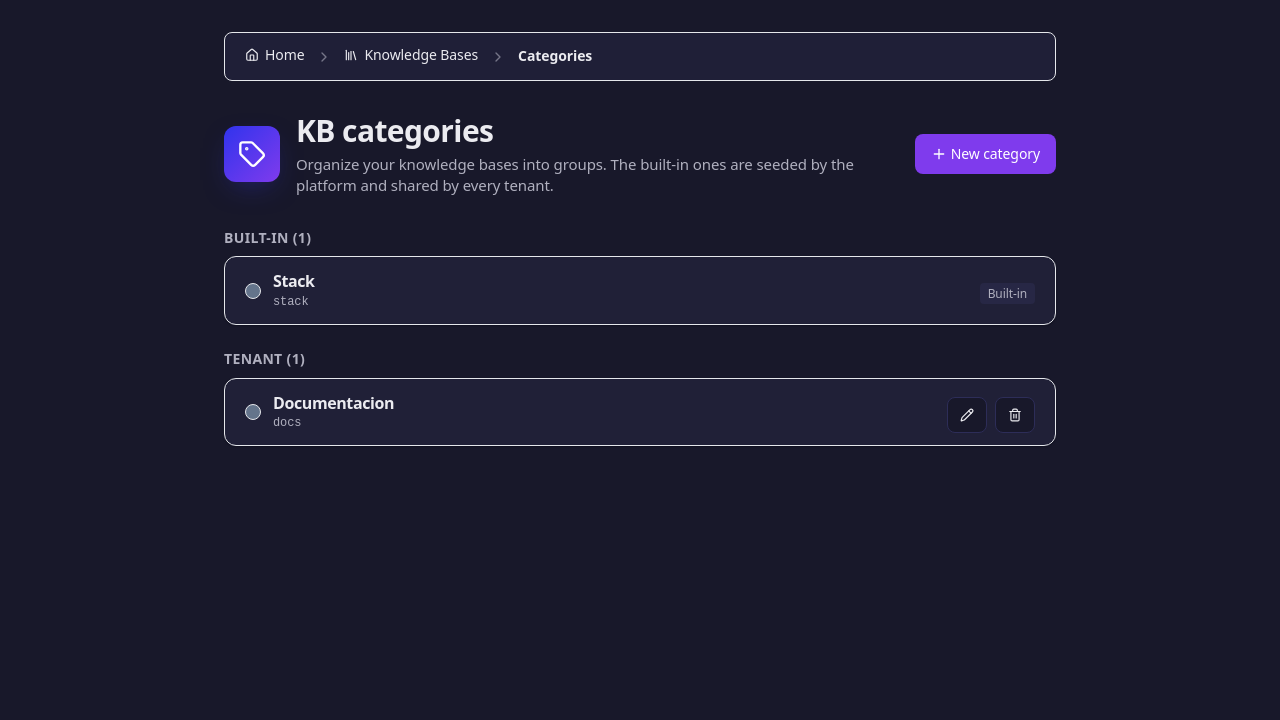
Test: categorías de KB en los dos idiomas › traduce el diálogo de borrado de categoría
Step 1. Click the button with test id "kb-cat-delete-docs" → [1015, 415], box [995, 397, 1035, 433]
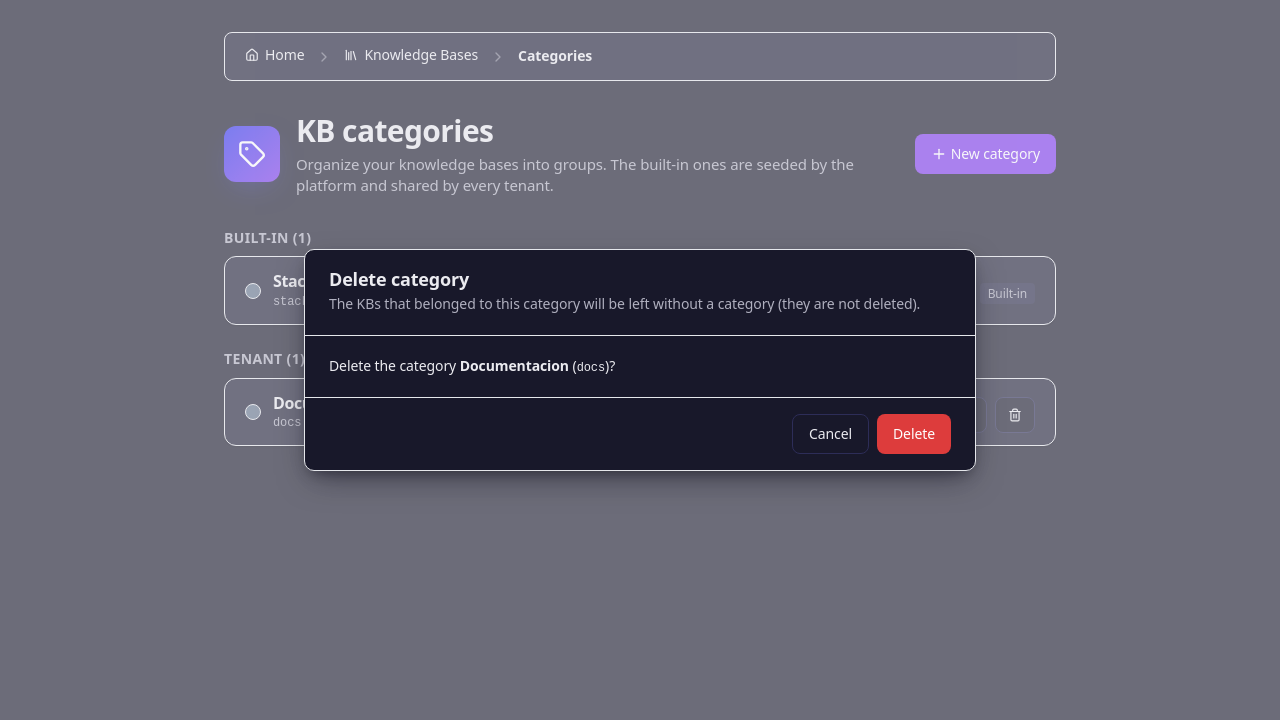
expect the heading "Delete category" is shown: met, box [329, 267, 469, 291]
expect the text "will be left without a category" is shown: met, box [329, 294, 920, 313]
expect the button with test id "kb-cat-delete-confirm" reads "Delete": met, box [877, 414, 951, 454]
